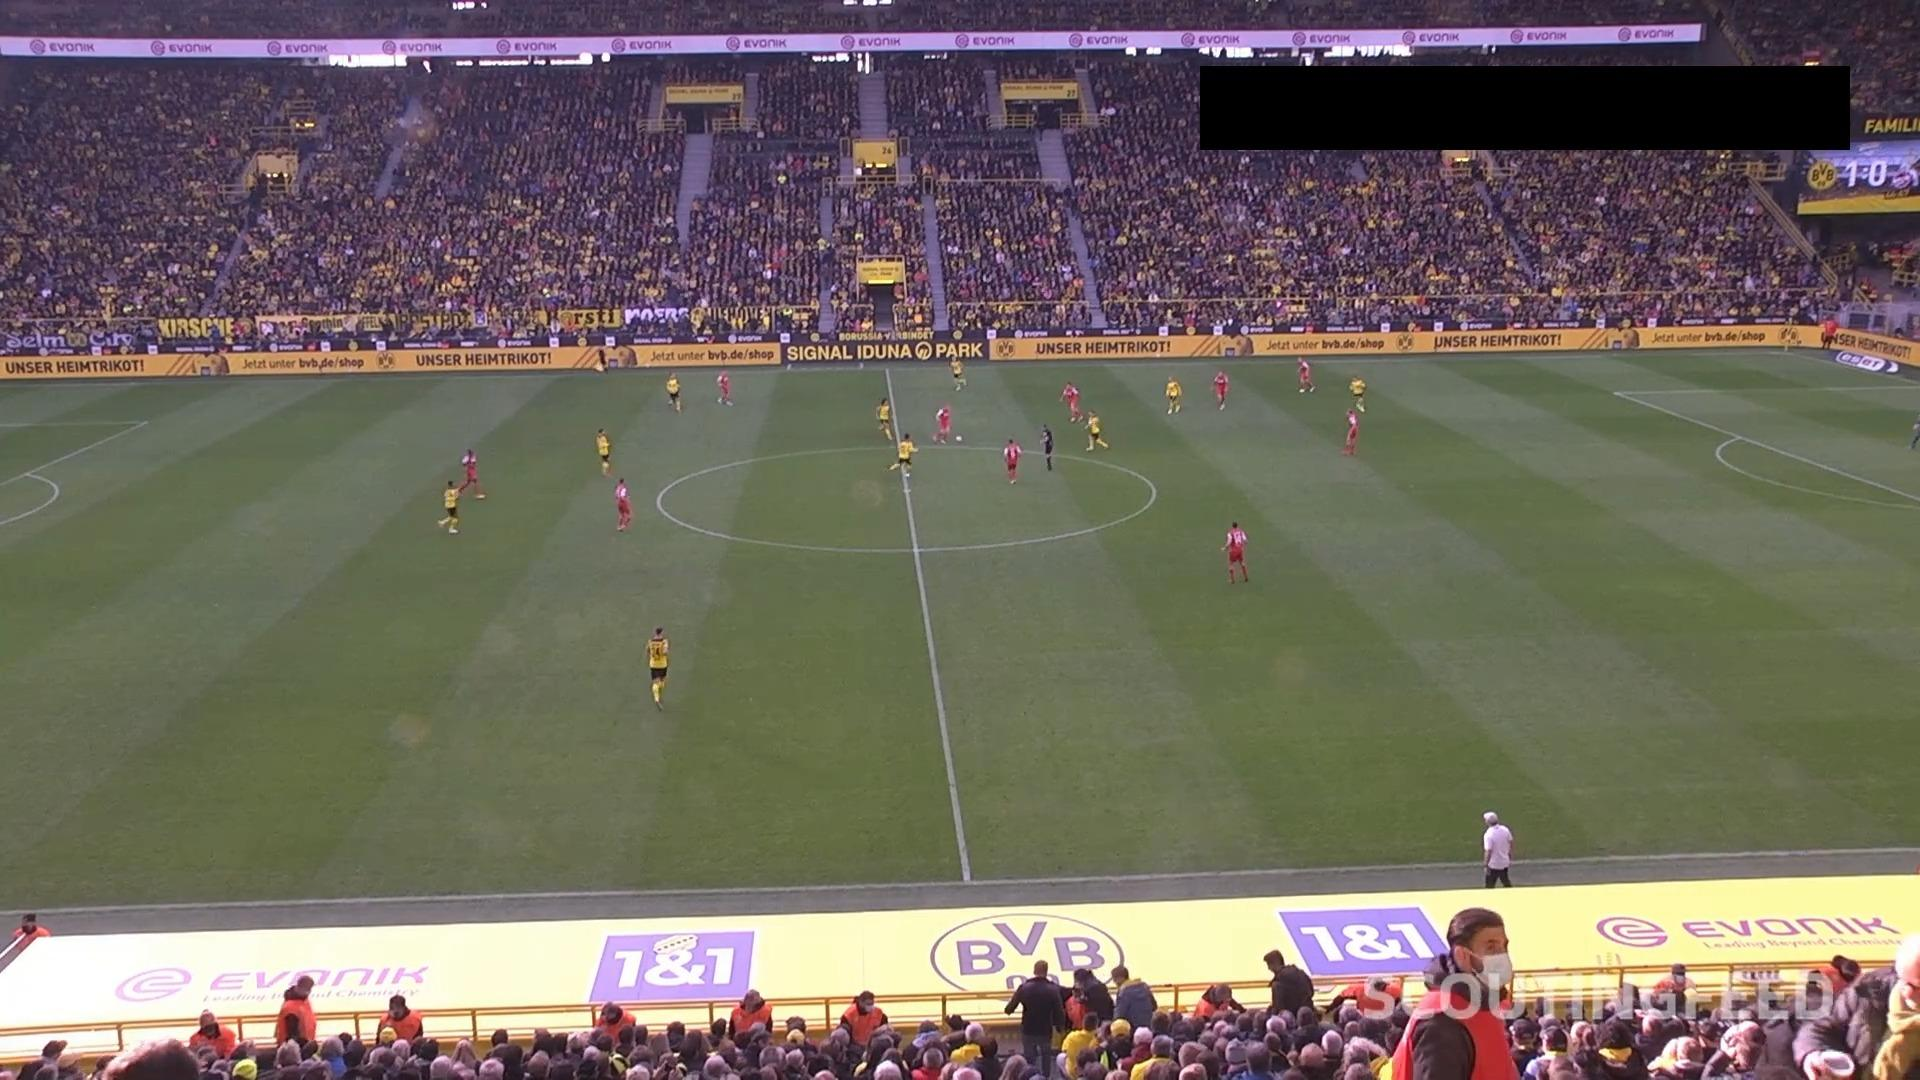ball: (955, 434, 963, 443)
